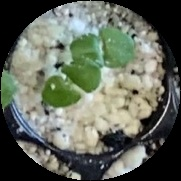Basil: (39, 62, 101, 109), (64, 29, 135, 66)
